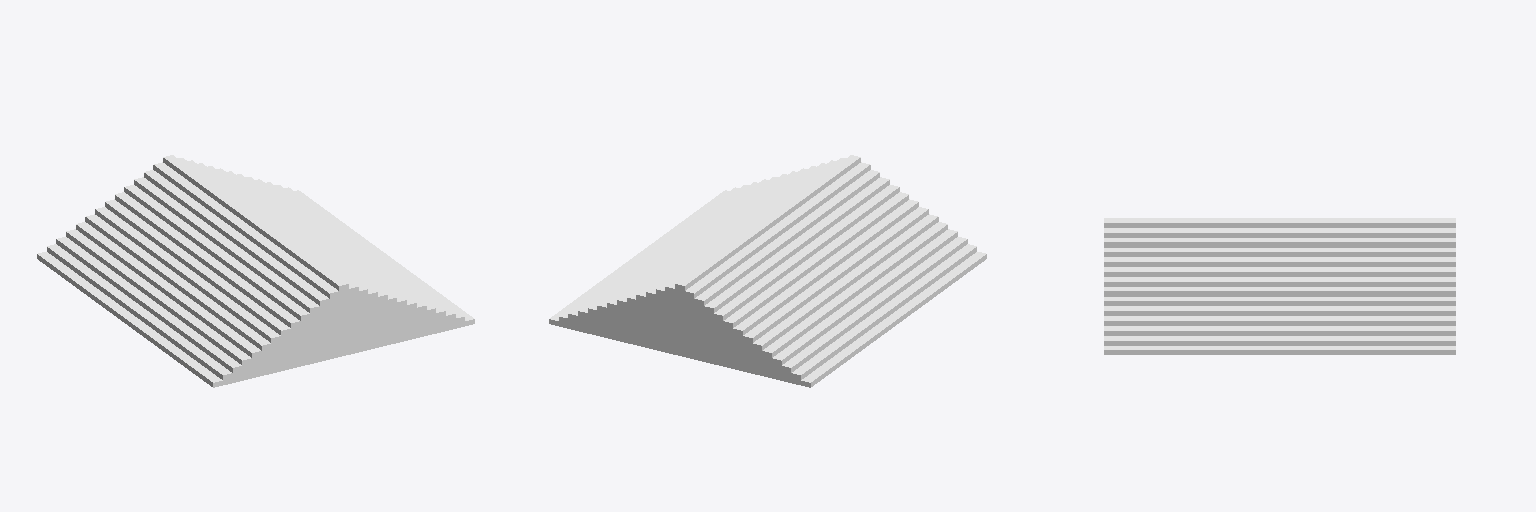
File: Roof.obj
The picture shows the model from 3 angles: view 1: azimuth 30°, elevation 25°; view 2: azimuth 150°, elevation 25°; view 3: azimuth 270°, elevation 25°; orthographic projection.
Parts seen in each view (by area): view 1: Roof; view 2: Roof; view 3: Roof.
Boxes of the visible parts, x1,y1,x2,y2 form: Roof: [37, 155, 474, 387]; Roof: [549, 155, 986, 387]; Roof: [1104, 218, 1455, 354].
Bounding box in the file's own units: 108 × 28 × 126.